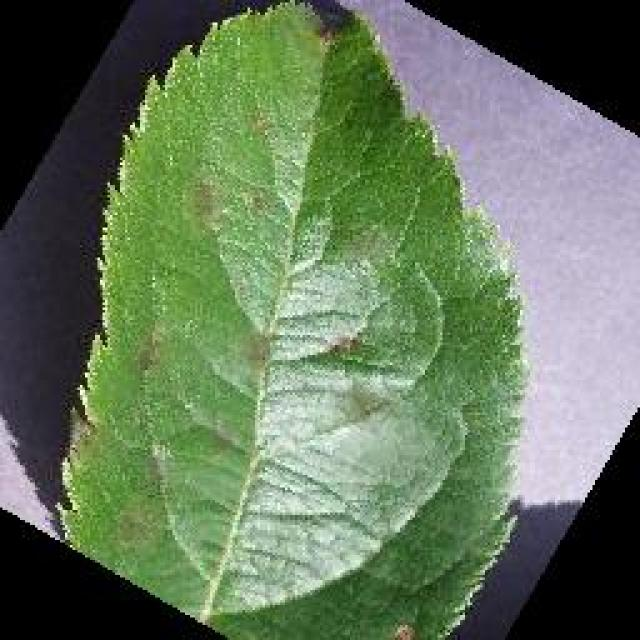apple scab disease: (52, 0, 530, 638)
